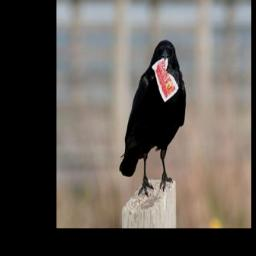Crow: (119, 39, 187, 198)
